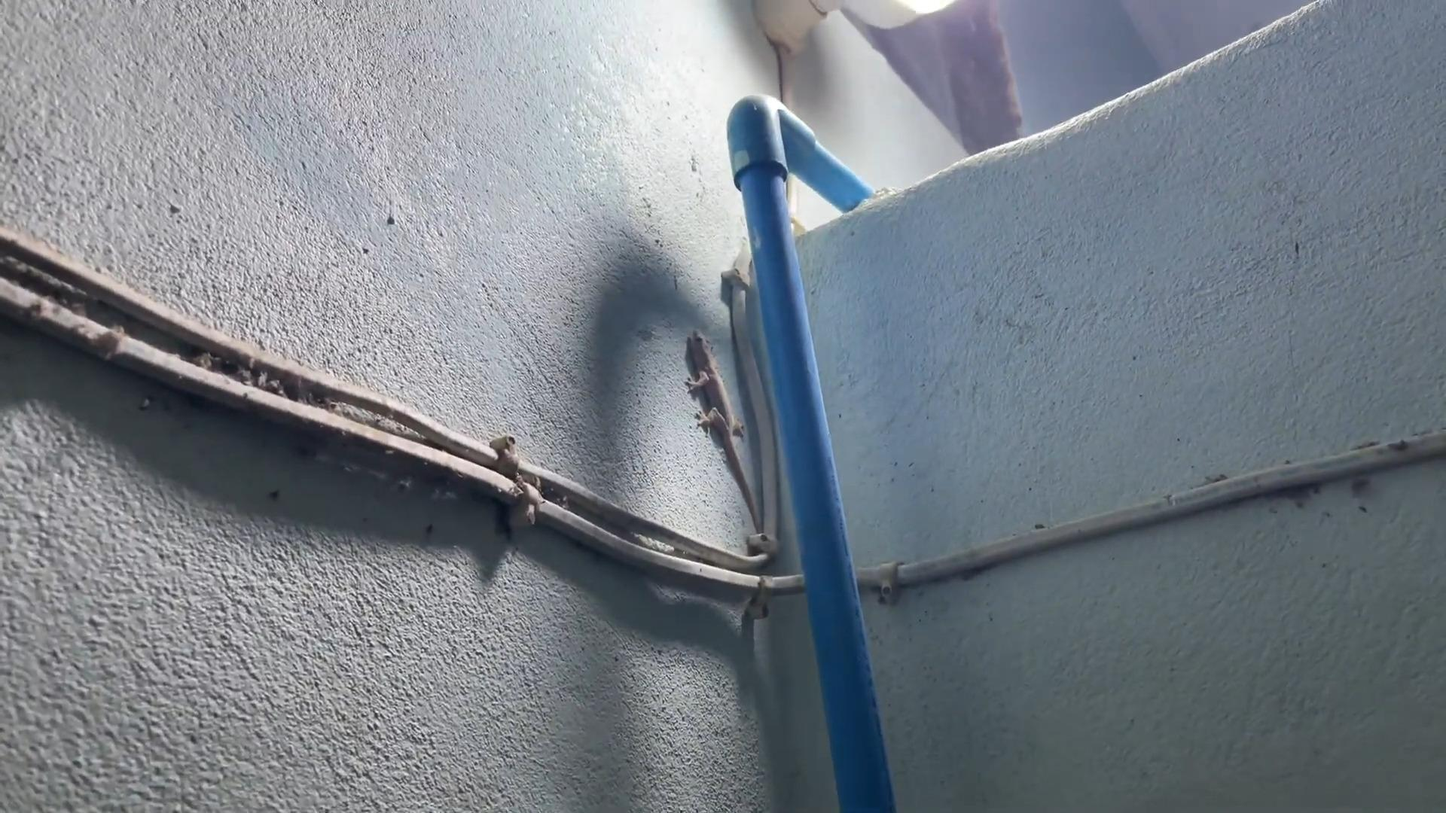lizard: (674, 322, 754, 530)
